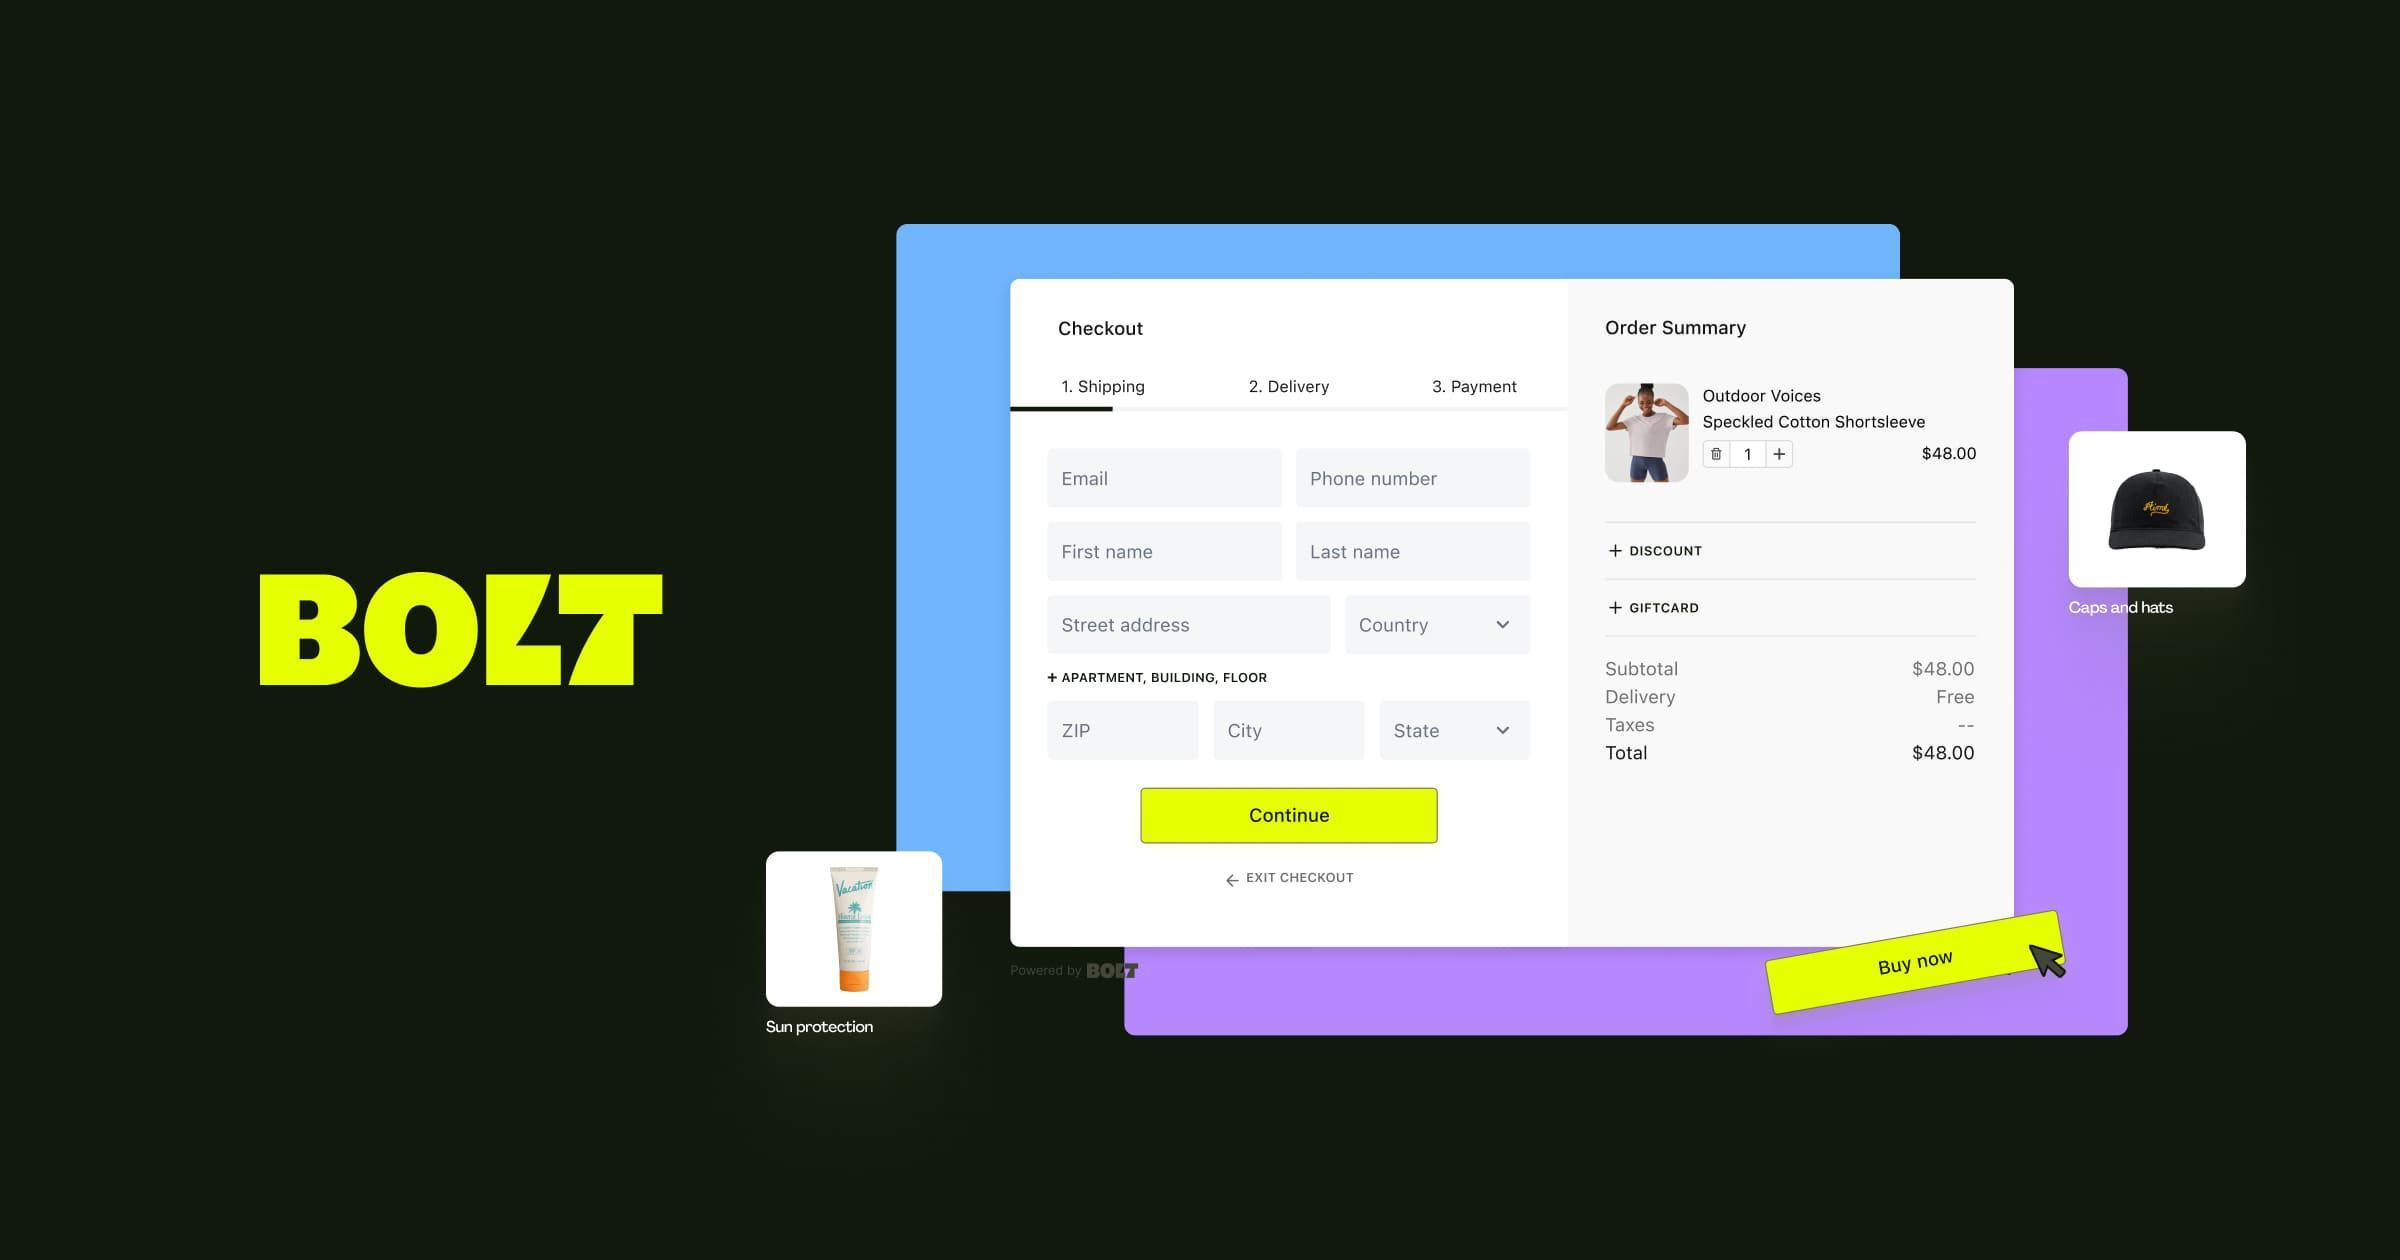button: (1141, 789, 1440, 844)
dropdown: (1343, 594, 1537, 655), (1378, 698, 1535, 763)
input: (1048, 592, 1338, 659), (1044, 443, 1287, 513), (1295, 517, 1538, 586), (1041, 519, 1287, 586), (1295, 443, 1538, 509), (1213, 698, 1368, 763), (1048, 700, 1202, 763)
label: (1702, 382, 1929, 433), (1605, 651, 1687, 763), (1908, 659, 1987, 766), (1606, 317, 1749, 343), (1060, 671, 1276, 686), (1049, 321, 1156, 343), (1241, 870, 1360, 889), (1446, 378, 1522, 400), (1263, 378, 1333, 400), (1075, 378, 1149, 398), (1629, 543, 1706, 562), (1632, 598, 1700, 617), (1921, 444, 1983, 465)
